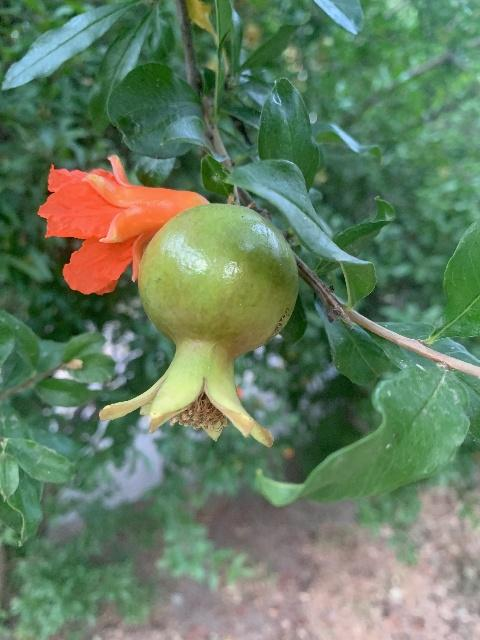flower: (36, 153, 208, 296)
mid-growth: (97, 206, 298, 446)
